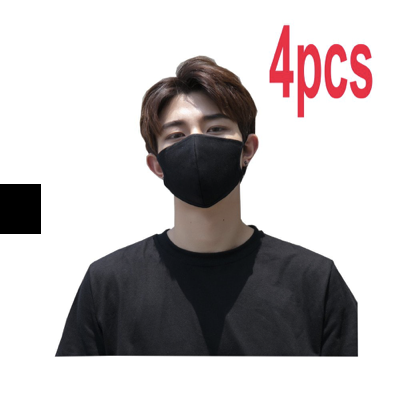with_mask: (157, 108, 244, 208)
